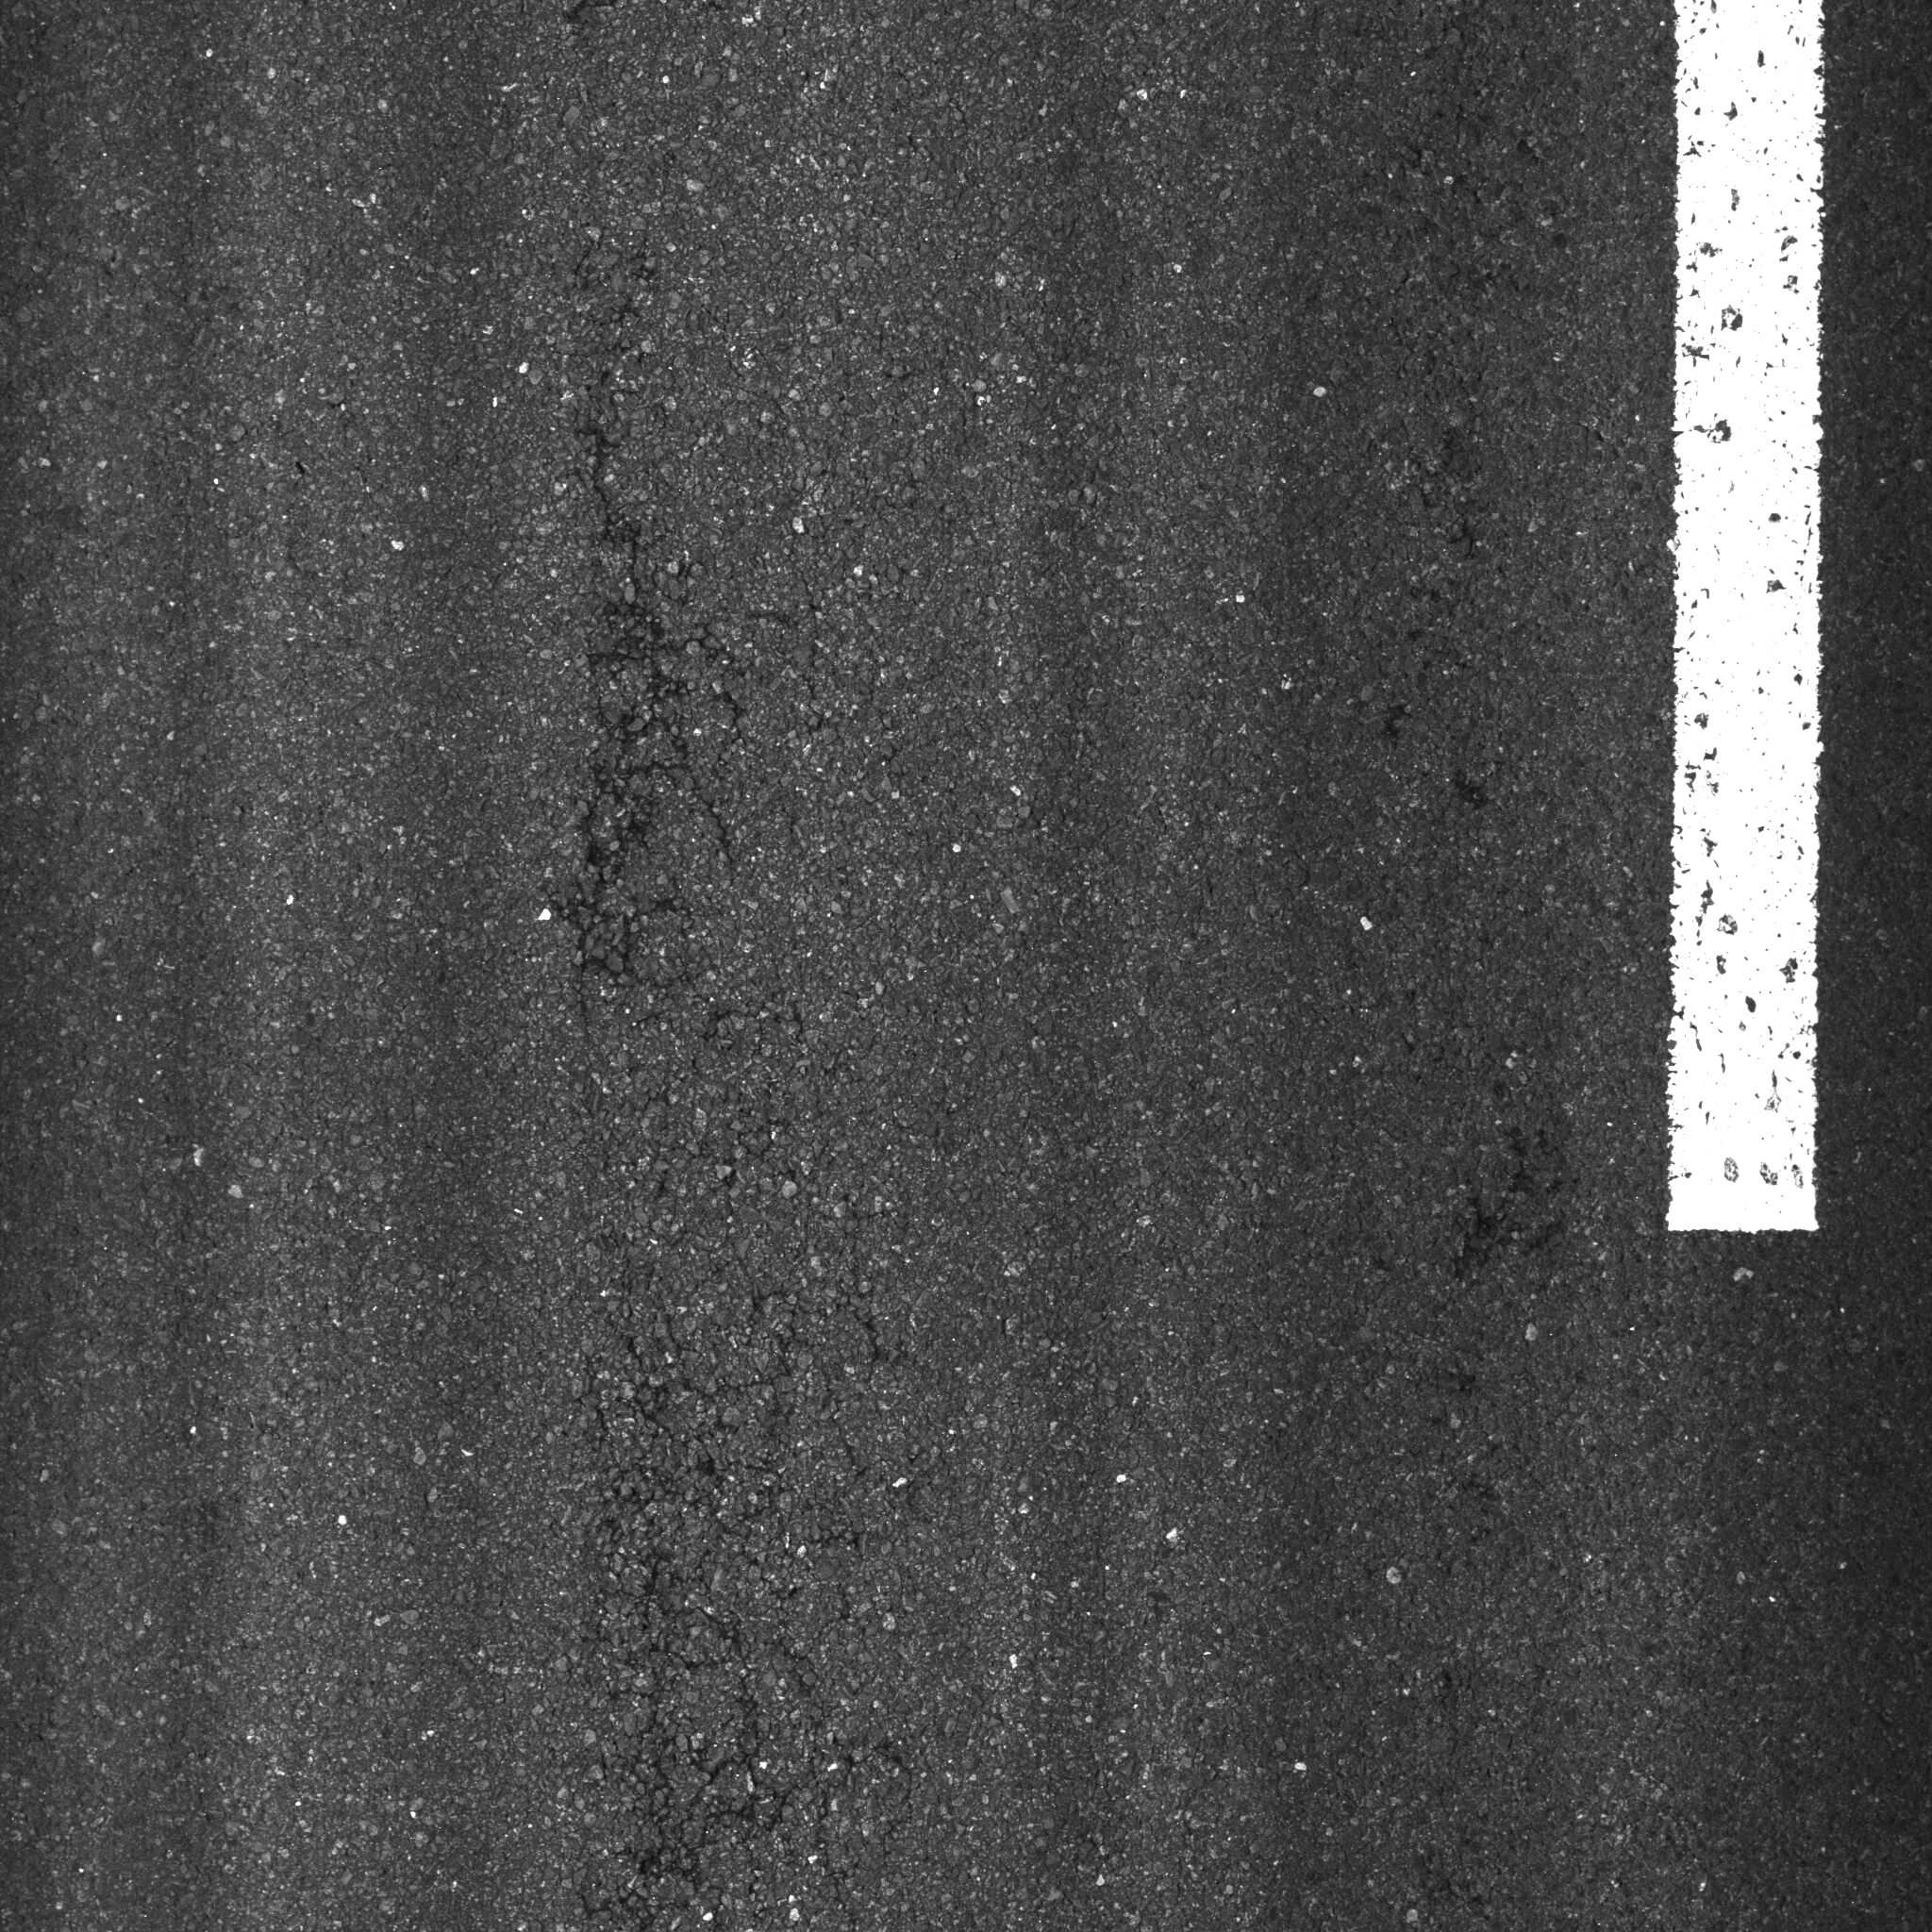alligator: (435, 334, 939, 1927)
